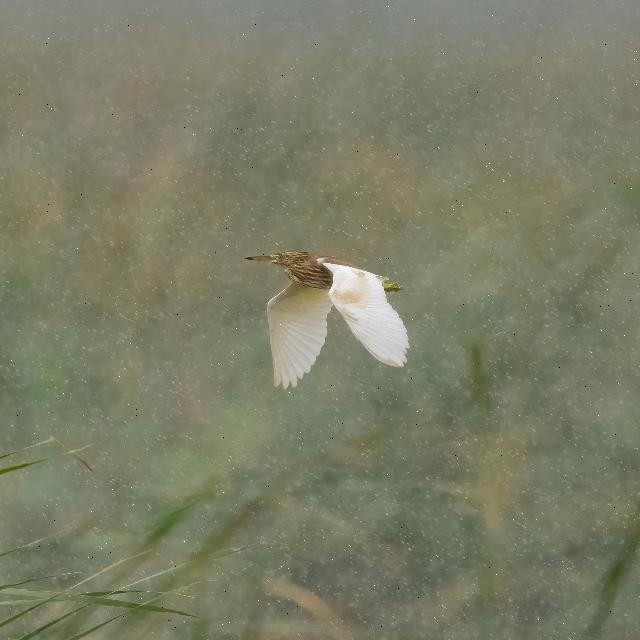heron: (234, 245, 426, 397)
